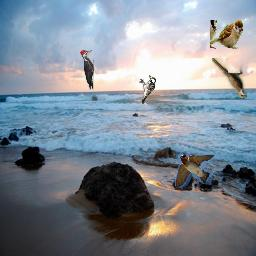Cuckoo: (212, 58, 247, 98)
Sparrow: (210, 20, 243, 49)
Swallow: (175, 154, 215, 188)
Woodpecker: (80, 50, 94, 90), (139, 75, 156, 104)
